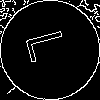L: (25, 25, 77, 64)
